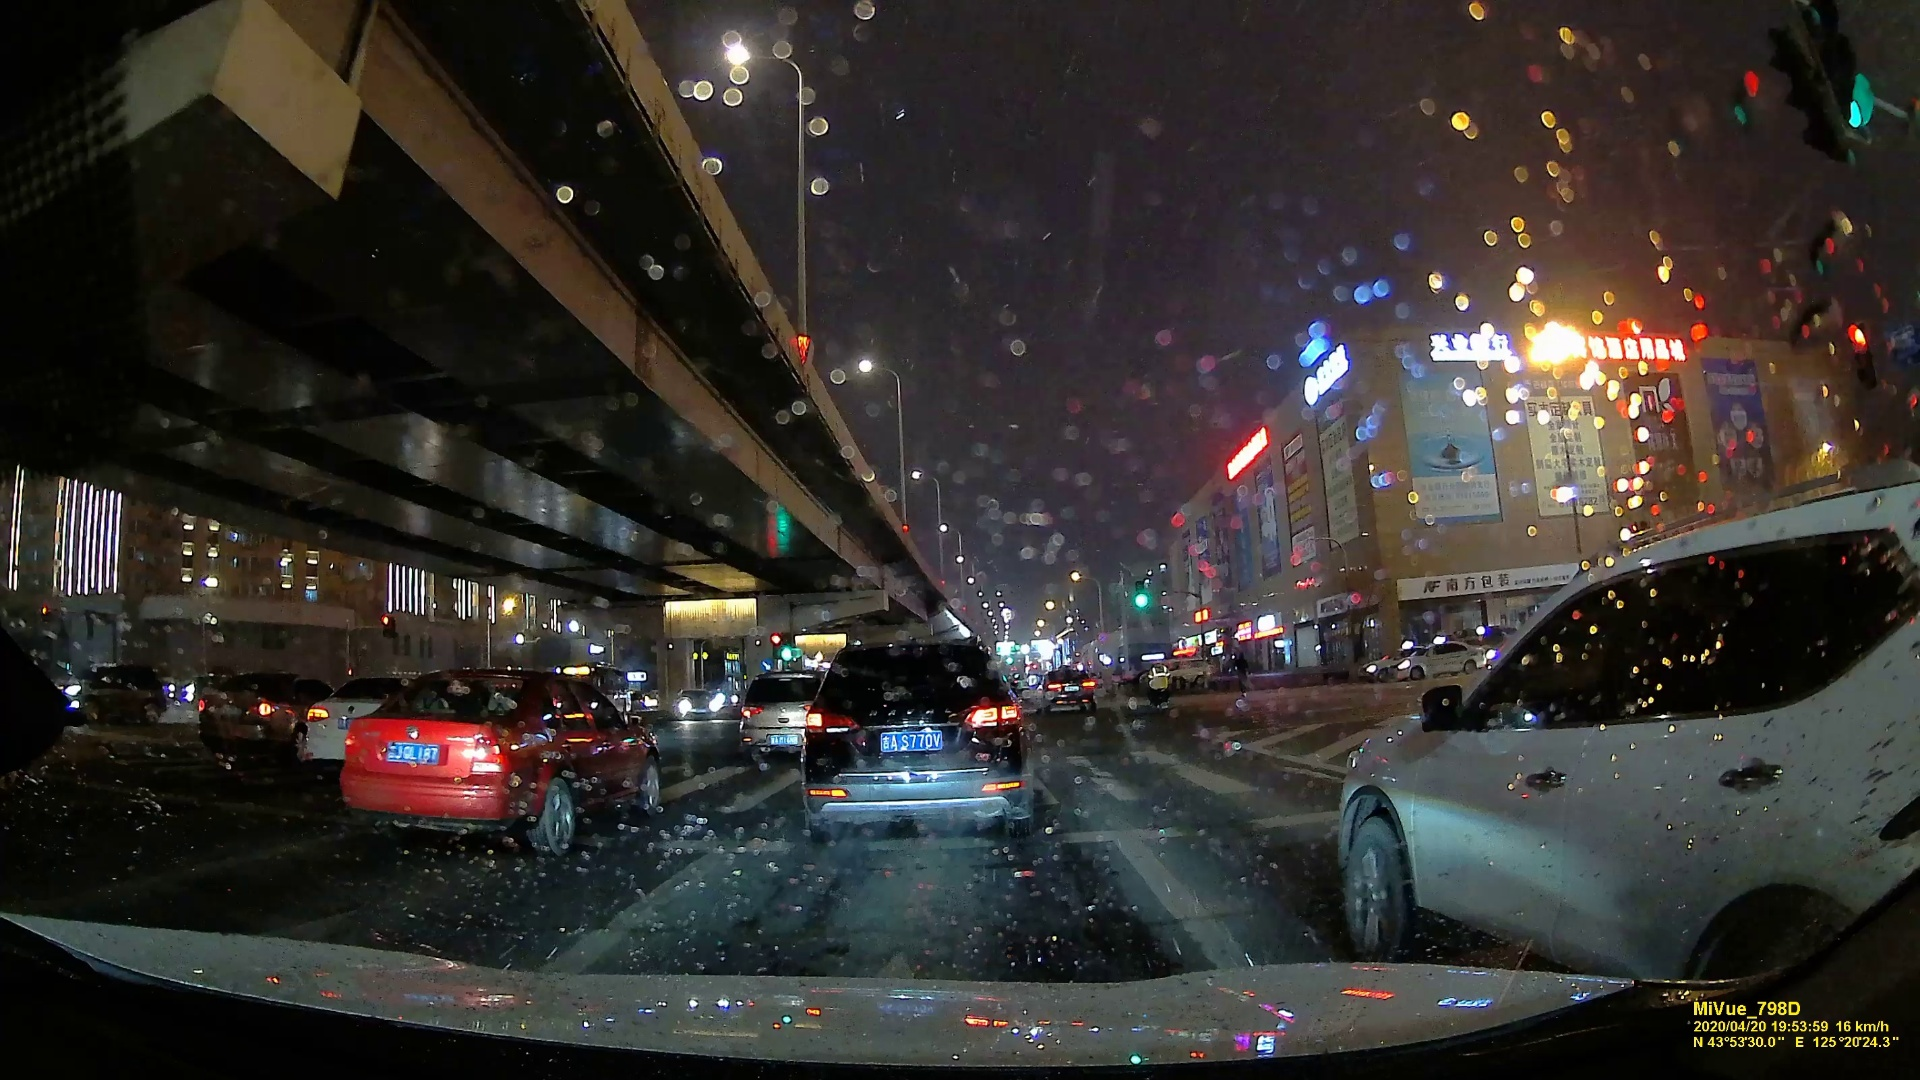person: (1233, 652, 1252, 693), (1148, 659, 1171, 692)
traffic_sign: (737, 668, 816, 761), (1133, 579, 1148, 608), (380, 613, 394, 638)
vehicle: (1329, 506, 1919, 984), (342, 663, 668, 845), (800, 637, 1042, 842), (190, 669, 308, 760), (1038, 666, 1095, 710)
